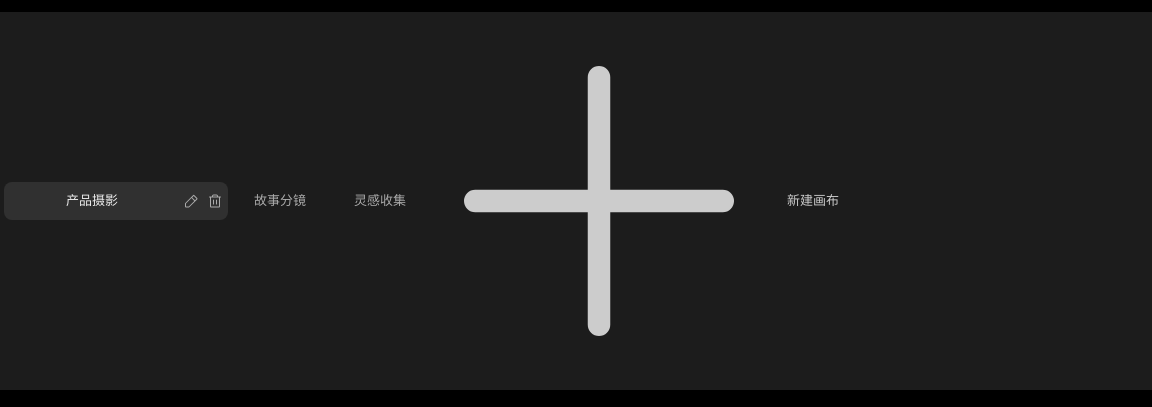
Test: CanvasTabs › renames through the visible action, trims input and returns keyboard focus
Click the button named "重命名画布 产品摄影". click: (191, 201)
box: [179,183,203,219]
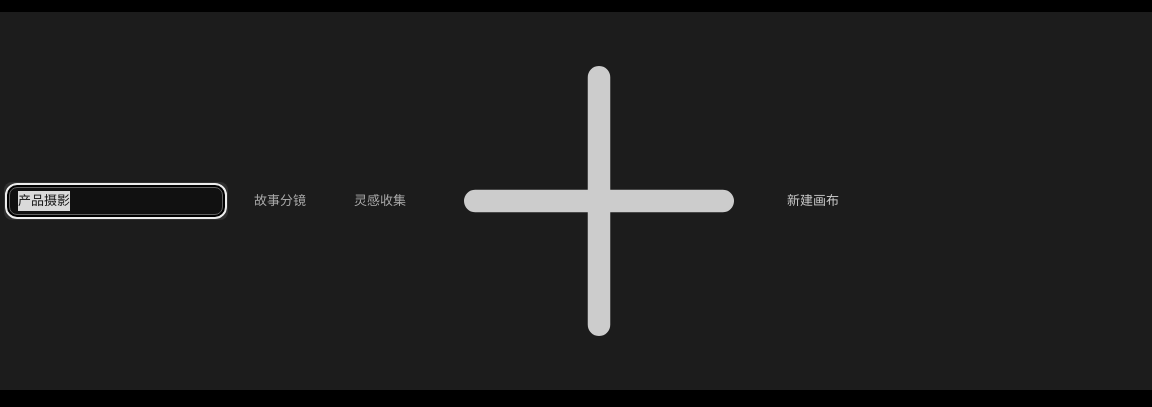
Replace the text in the field named "画布名称" with "  夏季商品  ". click: (116, 201)
box: [9,187,223,215]
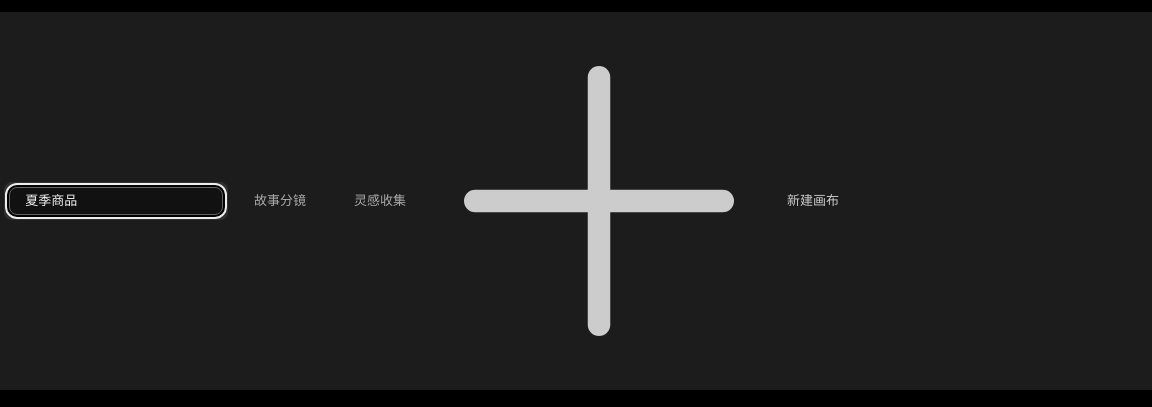
Press Enter
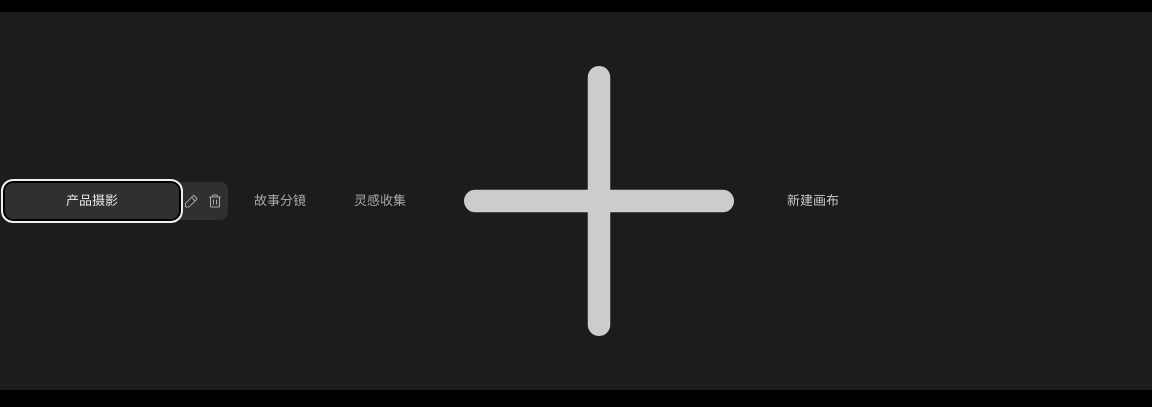
Result: the field is gone
